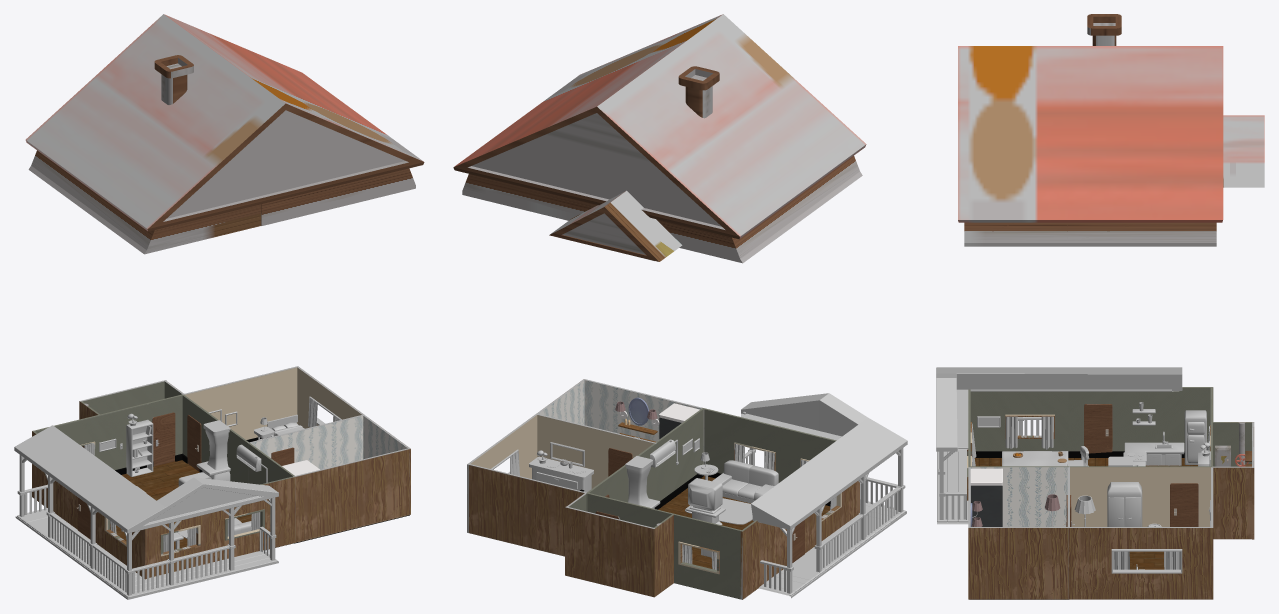
Rendered from Cabin10.fbx.
3 renders of one model, left to right at view 1: azimuth 30°, elevation 25°; view 2: azimuth 150°, elevation 25°; view 3: azimuth 270°, elevation 25°, orthographic. The views are drawn at different scales.
Parts seen in each view (by area): view 1: Cube.001, Wall, PorchRoof, Roof, Porch, Floor_Living, Closet.001, Chimney, Cube.003, Door4, Door2; view 2: Cube.001, Wall, PorchRoof, Roof, Cube.004, Porch, Couch, Cube.003, Drawer, Chimney, Floor_Living, TV (+1 smaller); view 3: Cube.001, Wall, PorchRoof, Roof, Cube.004, Porch, Closet, Door5, Kitchen, Door2, Glasswall1, Fridge (+7 smaller).
Part boxes in pixels (x1,y1,x2,y2): Cube.001: (25,14,424,231); Wall: (32,366,410,579); PorchRoof: (14,425,278,595); Roof: (28,150,415,254); Porch: (15,508,278,599); Floor_Living: (110,460,251,549); Closet.001: (126,413,153,476); Chimney: (196,420,230,481); Cube.003: (154,55,193,104); Door4: (152,412,175,466); Door2: (187,415,201,471); Cube.001: (453,14,866,239); Wall: (467,379,859,599); PorchRoof: (740,393,907,593); Roof: (462,156,862,263); Cube.004: (549,190,682,261); Porch: (759,499,906,598); Couch: (712,460,778,503); Cube.003: (678,66,719,118); Drawer: (529,456,593,492); Chimney: (625,456,660,508); Floor_Living: (658,475,830,568); TV: (688,478,722,513); Cube.001: (958,46,1223,222); Wall: (968,387,1254,599); PorchRoof: (936,367,1182,519); Roof: (964,222,1216,246); Cube.004: (1223,115,1264,187); Porch: (937,449,968,524); Closet: (1107,482,1142,526); Door5: (1084,404,1112,453); Kitchen: (1123,431,1184,466); Door2: (1170,483,1198,526); Glasswall1: (971,485,1002,526); Fridge: (1184,410,1206,464).
Size of the model in its own units: 3890 by 5451 by 3319.
